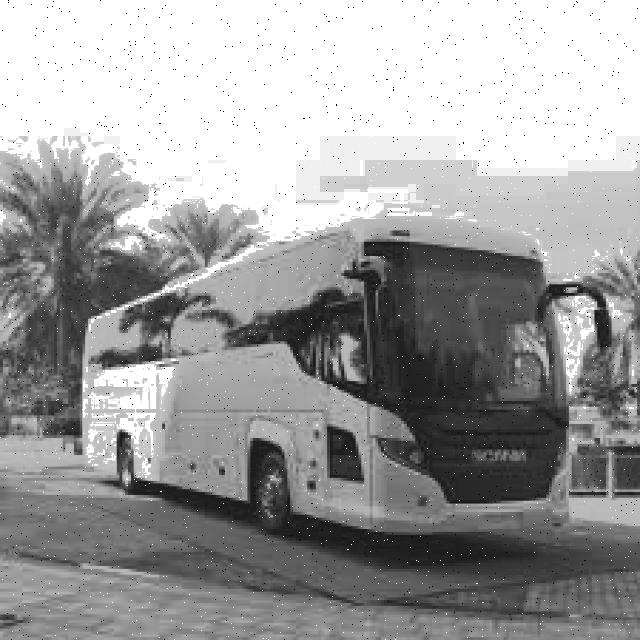Bus: (61, 198, 629, 568)
